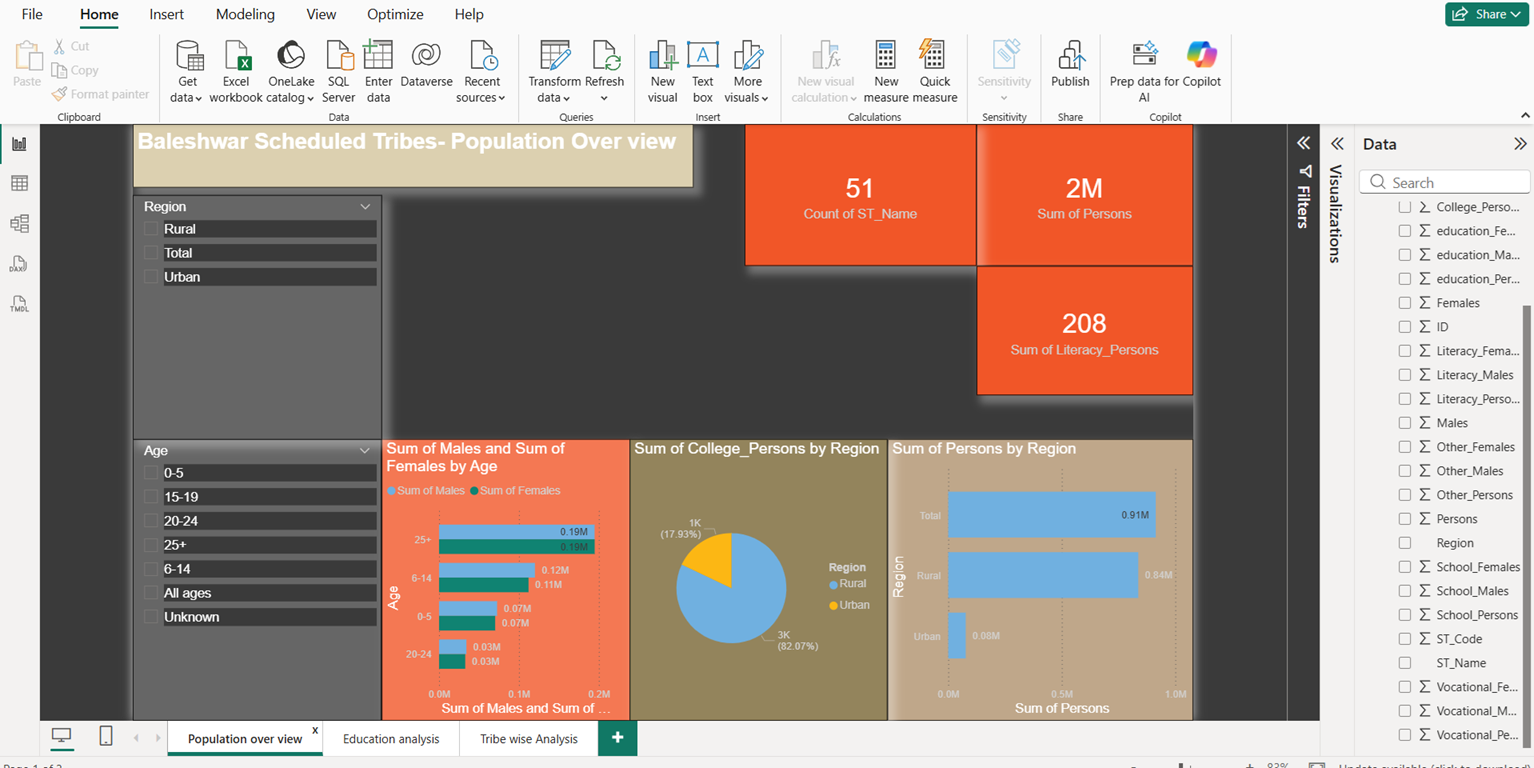

Layout of this report page (visuals, bound fields, positions):
{"tool":"powerbi","page":{"name":"Population over view","canvas":[1280,720],"ordinal":0},"visuals":[{"type":"barChart","fields":{"Category":["baleshwar_cleaned_final.Region"],"Y":["Sum(baleshwar_cleaned_final.Persons)"]},"box":[911.4,380,368.6,340],"z":0},{"type":"slicer","fields":{"Values":["baleshwar_cleaned_final.Age"]},"box":[0,380,300,340],"z":1000},{"type":"clusteredBarChart","fields":{"Y":["Sum(baleshwar_cleaned_final.Males)","Sum(baleshwar_cleaned_final.Females)"],"Category":["baleshwar_cleaned_final.Age"]},"box":[300,380,300,340],"z":2000},{"type":"pieChart","fields":{"Category":["baleshwar_cleaned_final.Region"],"Y":["Sum(baleshwar_cleaned_final.College_Persons)"]},"box":[600,380,311.4,340],"z":3000},{"type":"card","title":"Total No:of persons","fields":{"Values":["Sum(baleshwar_cleaned_final.Persons)"]},"box":[1018.6,0,261.4,171.4],"z":4000},{"type":"card","title":"ST_Name","fields":{"Values":["Count(baleshwar_cleaned_final.ST_Name)"]},"box":[738.6,0,280,171.4],"z":5000},{"type":"card","title":"Literacy No:of persons","fields":{"Values":["Sum(baleshwar_cleaned_final.Literacy_Persons)"]},"box":[1018.6,171.4,261.4,155.7],"z":6000},{"type":"textbox","box":[0,0,677.1,77.1],"z":7000},{"type":"slicer","fields":{"Values":["baleshwar_cleaned_final.Region"]},"box":[0,85.1,300.5,295],"z":8000}]}

Visuals, with their boxes on the page's 1280x720 design canvas (x1, y1, x2, y2). These are canvas units, not pixel positions in the 1534x768 screenshot, which may show the page scaled, cropped or inside an application window:
barChart - baleshwar_cleaned_final.Region x Sum(baleshwar_cleaned_final.Persons): pyautogui.locateOnScreen(911, 380, 1280, 720)
slicer - baleshwar_cleaned_final.Age: pyautogui.locateOnScreen(0, 380, 300, 720)
clusteredBarChart - Sum(baleshwar_cleaned_final.Males) x Sum(baleshwar_cleaned_final.Females): pyautogui.locateOnScreen(300, 380, 600, 720)
pieChart - baleshwar_cleaned_final.Region x Sum(baleshwar_cleaned_final.College_Persons): pyautogui.locateOnScreen(600, 380, 911, 720)
"Total No:of persons" card: pyautogui.locateOnScreen(1019, 0, 1280, 171)
"ST_Name" card: pyautogui.locateOnScreen(739, 0, 1019, 171)
"Literacy No:of persons" card: pyautogui.locateOnScreen(1019, 171, 1280, 327)
textbox: pyautogui.locateOnScreen(0, 0, 677, 77)
slicer - baleshwar_cleaned_final.Region: pyautogui.locateOnScreen(0, 85, 300, 380)
